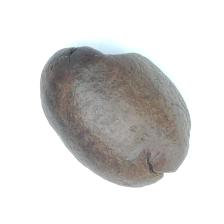NG: (64, 44, 145, 69), (141, 151, 180, 184)
